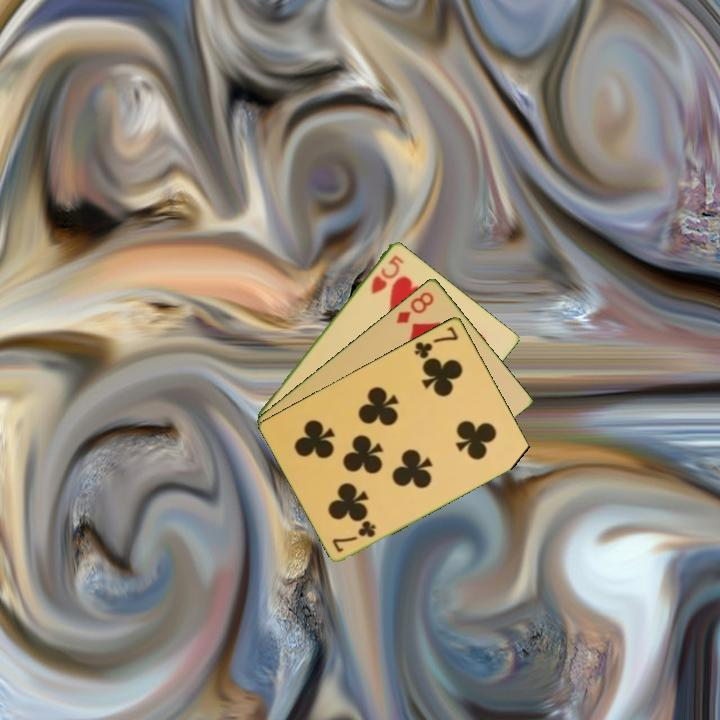5h: (367, 251, 407, 296)
7c: (410, 322, 461, 361), (329, 517, 379, 555)
8d: (393, 288, 437, 326)
